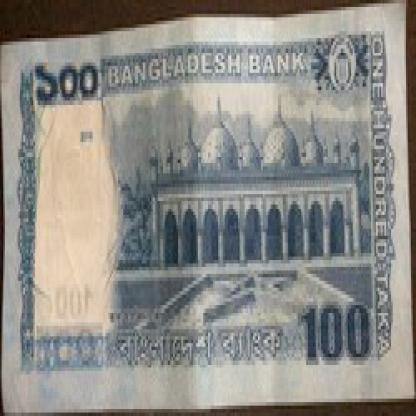one hundred taka: (301, 298, 373, 368), (32, 55, 104, 111)
